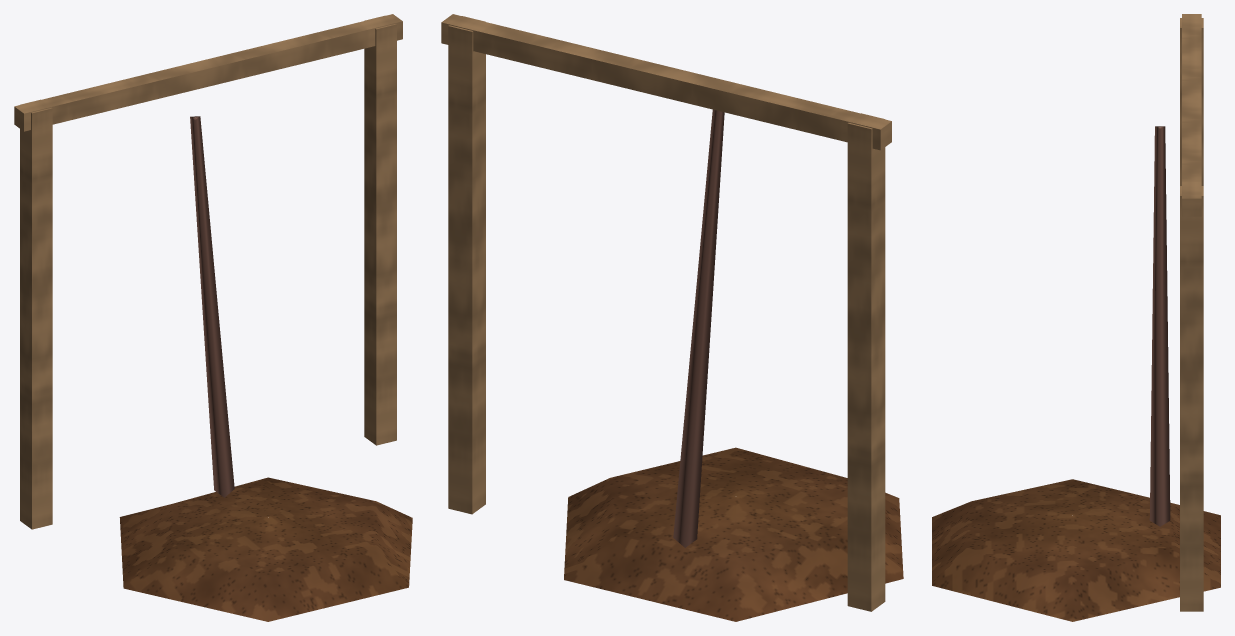
Rendered from plant-grape-3-far.glb.
3 views of the same model, side by side, from view 1: azimuth 30°, elevation 25°; view 2: azimuth 150°, elevation 25°; view 3: azimuth 270°, elevation 25° (orthographic). The views are drawn at different scales.
Visible parts, largest first — view 1: plant-grape-3-far; view 2: plant-grape-3-far; view 3: plant-grape-3-far.
Part boxes in pixels (x1,y1,x2,y2): plant-grape-3-far: (14, 14, 412, 621); plant-grape-3-far: (441, 14, 903, 621); plant-grape-3-far: (932, 14, 1220, 621).
Bounding box in the file's own units: 1.1 × 1.24 × 0.7275.
3 materials, 2 textured.
